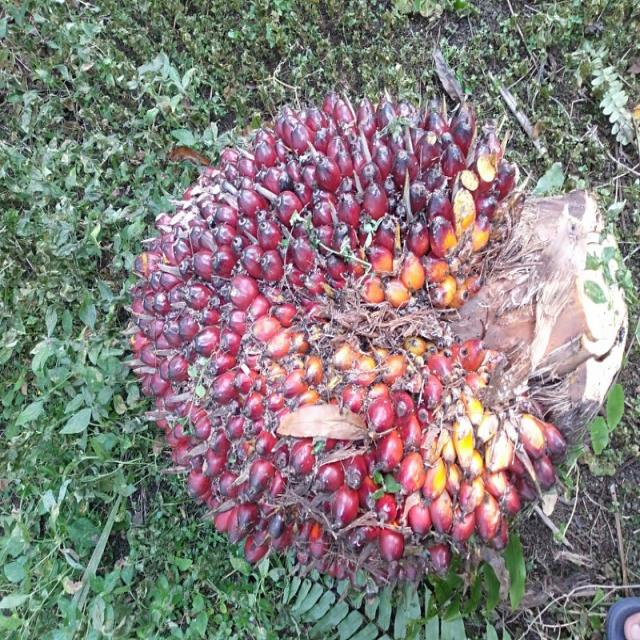fraksi 1: (114, 66, 610, 606)
